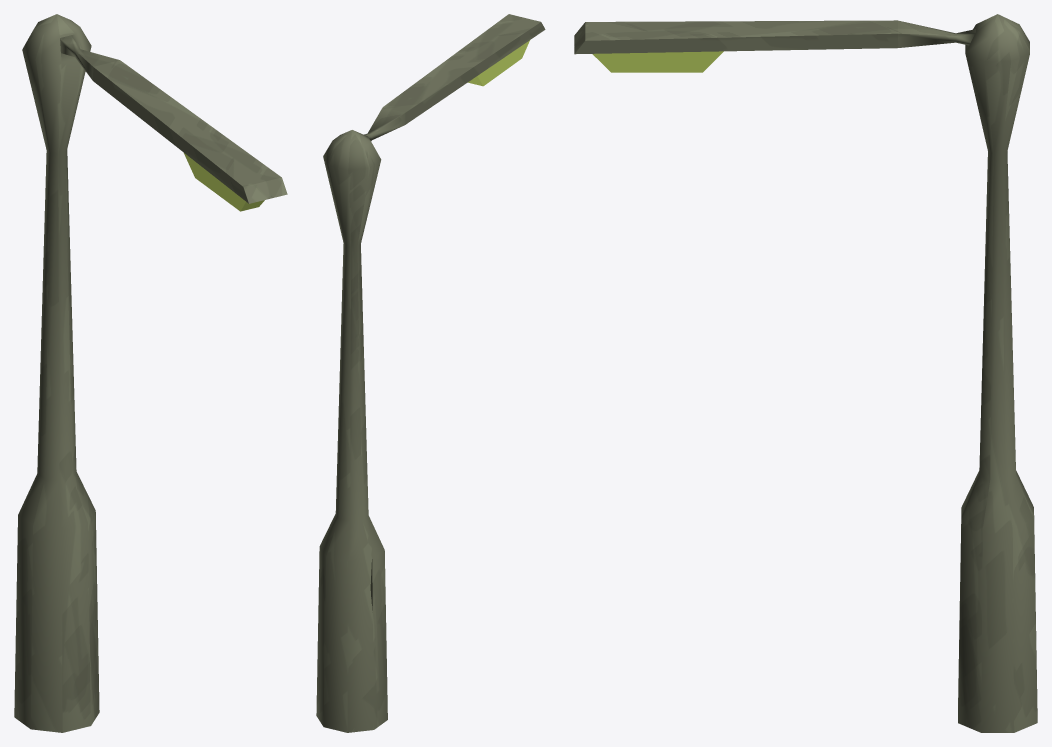
Rendered from StreetLamp.fbx.
3 views of the same model, side by side, from view 1: azimuth 30°, elevation 25°; view 2: azimuth 150°, elevation 25°; view 3: azimuth 270°, elevation 25° (orthographic). The views are drawn at different scales.
Parts seen in each view (by area): view 1: pCylinder1; view 2: pCylinder1; view 3: pCylinder1.
Part boxes in pixels (x1,y1,x2,y2): pCylinder1: [14, 14, 287, 732]; pCylinder1: [316, 14, 545, 732]; pCylinder1: [574, 14, 1037, 732].
Bounding box in the file's own units: 1.78 × 17.34 × 10.36.
1 material, 1 textured.
